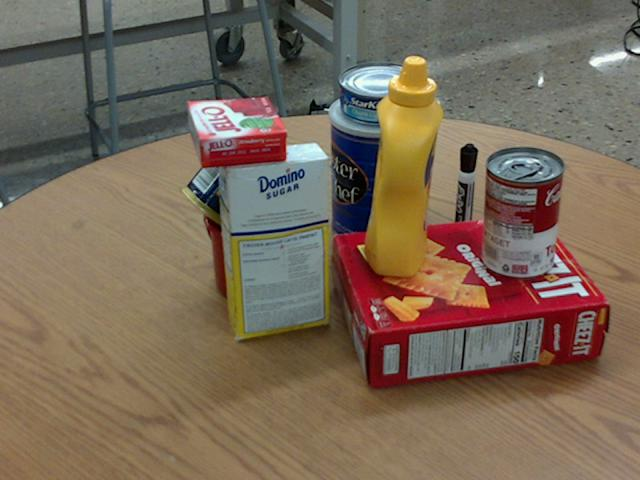cracker_box: (335, 212, 606, 389)
gelatin_box: (188, 95, 286, 167)
large_marker: (452, 144, 476, 250)
master_chef_can: (331, 89, 430, 248)
mug: (200, 188, 296, 300)
mustard_bottle: (365, 55, 443, 276)
potted_meat_can: (180, 122, 314, 251)
sugar_box: (216, 141, 329, 338)
tomato_soup_can: (482, 145, 564, 278)
tuna_fish_can: (339, 62, 423, 123)
